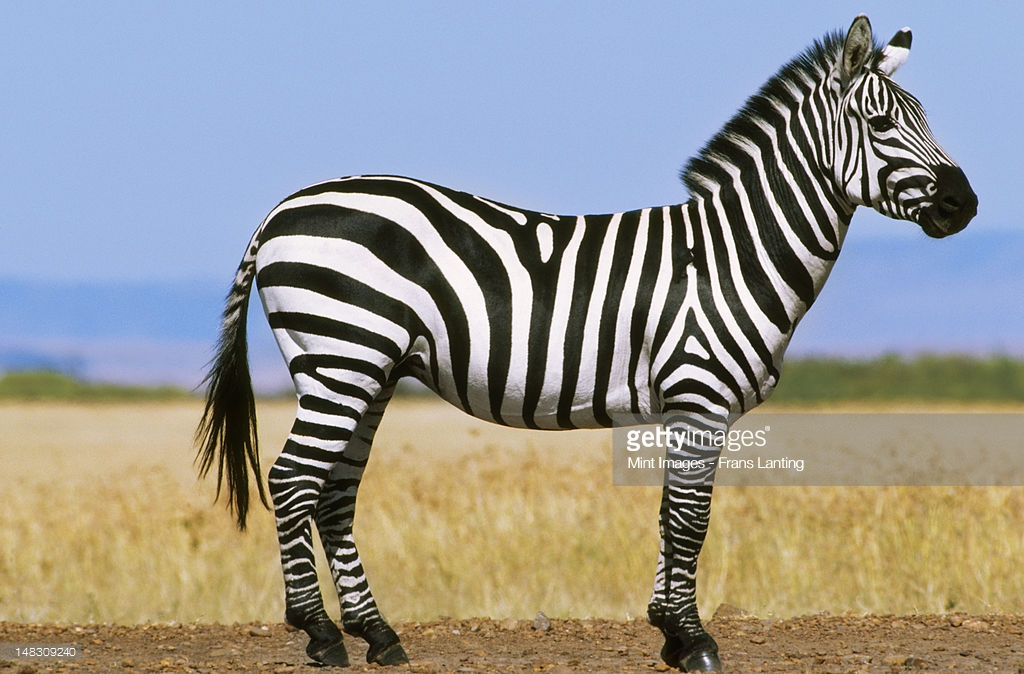zebra: (213, 27, 982, 672)
